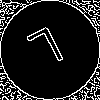L: (25, 25, 71, 79)
